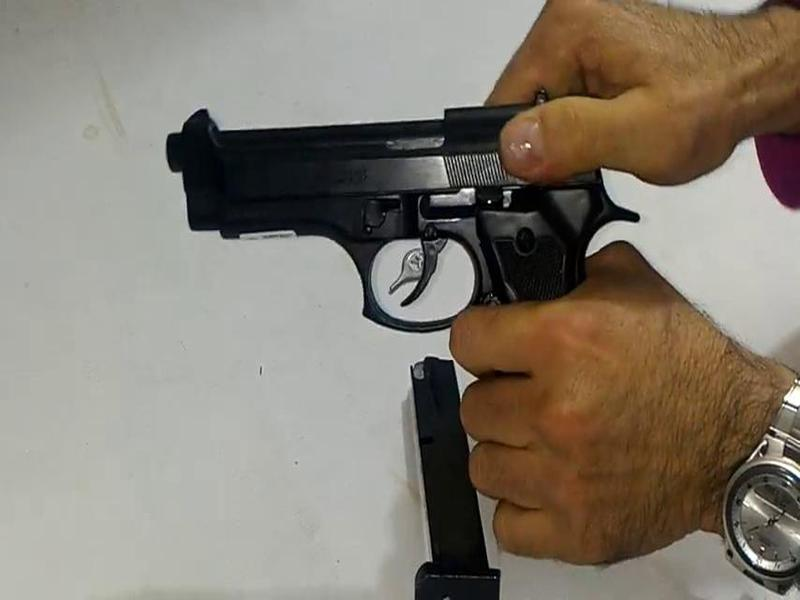Pistola: (153, 81, 697, 362)
